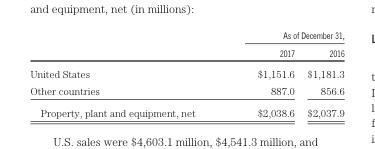table: (29, 29, 343, 117)
table column: (29, 29, 225, 117), (225, 29, 300, 117), (300, 29, 343, 117)
table column header: (29, 29, 343, 62)
table row: (29, 81, 343, 101), (29, 43, 343, 62), (29, 62, 343, 81), (29, 101, 343, 117), (29, 29, 343, 43)
table spanning cell: (225, 29, 343, 43)
